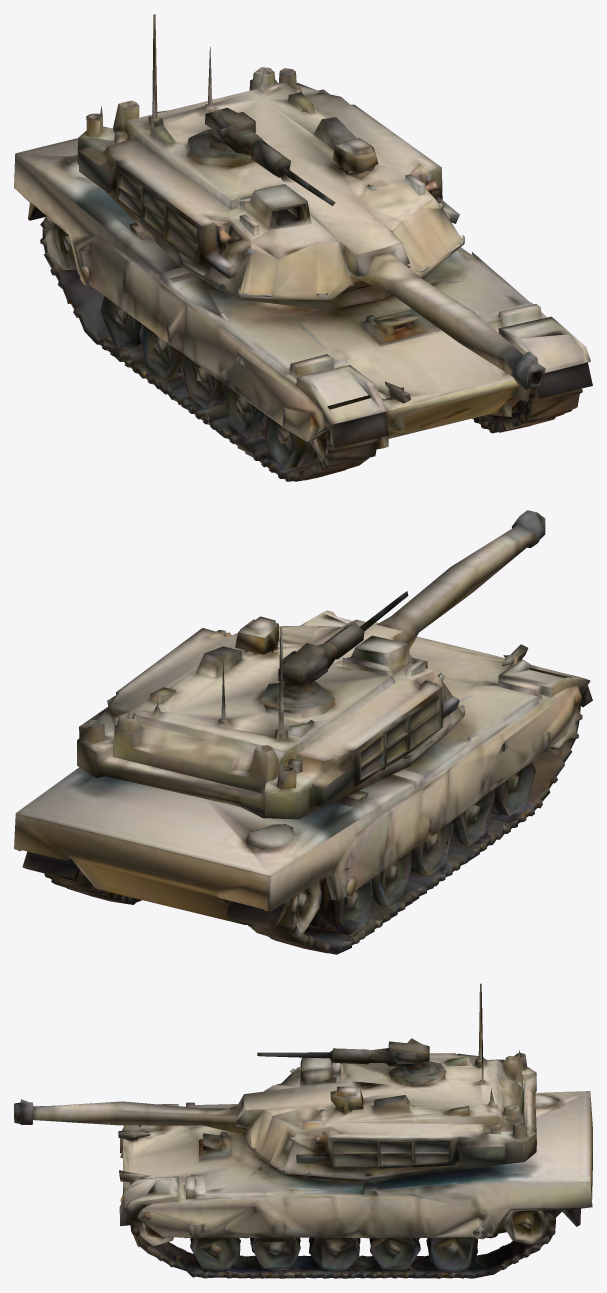
The model's file is tank2_opt.glb.
The picture shows the model from 3 angles, top to bottom: view 1: azimuth 30°, elevation 25°; view 2: azimuth 150°, elevation 25°; view 3: azimuth 270°, elevation 25°; orthographic projection. The views are drawn at different scales.
Visible parts, largest first — view 1: node_0; view 2: node_0; view 3: node_0.
Boxes of the visible parts, x1,y1,x2,y2 form: node_0: (14, 14, 592, 481); node_0: (14, 510, 592, 954); node_0: (14, 983, 592, 1278).
Bounding box in the file's own units: 0.4406 × 0.485 × 1.11.
1 material, 1 textured.
